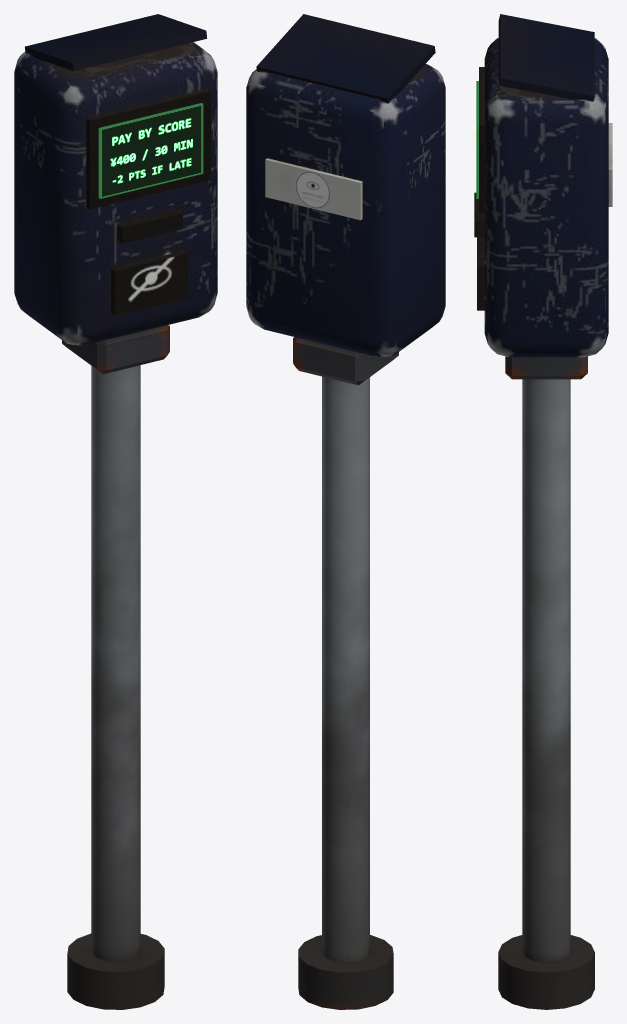
File: parking_meter.glb
3 renders of one model, left to right at view 1: azimuth 30°, elevation 25°; view 2: azimuth 150°, elevation 25°; view 3: azimuth 270°, elevation 25°, orthographic.
Visible parts, largest first — view 1: parking_meter; view 2: parking_meter; view 3: parking_meter.
Part boxes in pixels (x1,y1,x2,y2): parking_meter: [14, 14, 217, 1009]; parking_meter: [246, 14, 445, 1009]; parking_meter: [474, 14, 612, 1009].
Size of what is drawn, in the model's own units: 0.26 by 1.51 by 0.201.
Materials: 1 (1 with a texture image).
